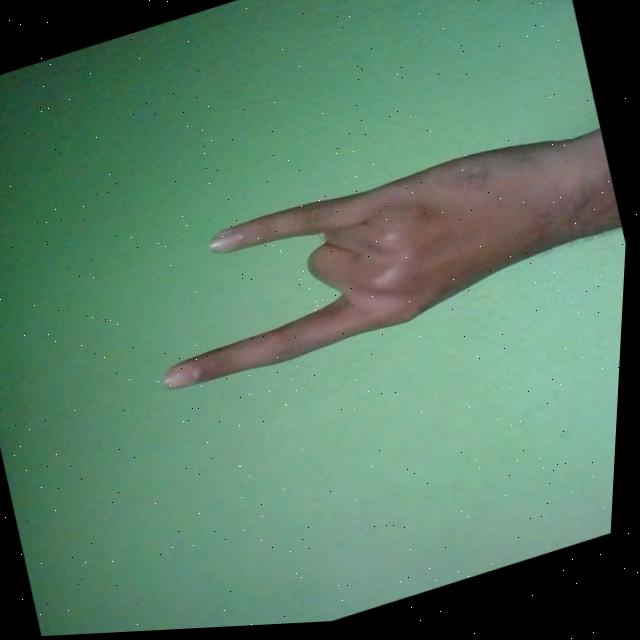Rock On: (130, 117, 631, 401)
